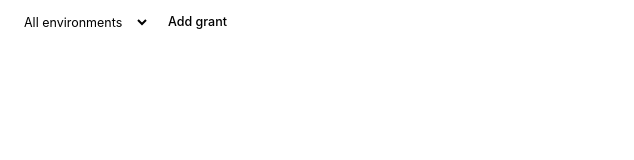
Test: hub admin panels › grant picker builds each scope
Later steps or results of the test are not shown.
Click the button with aria-label "Add grant to Ops".
click(198, 22)  # box x1=158 y1=8 x2=237 y2=36
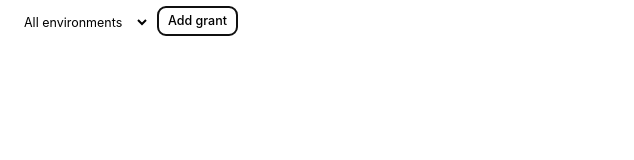
Select "One environment" in the dropdown named "Grant scope for Ops" at {"x": 81, "y": 22}, box x1=12 y1=8 x2=150 y2=36
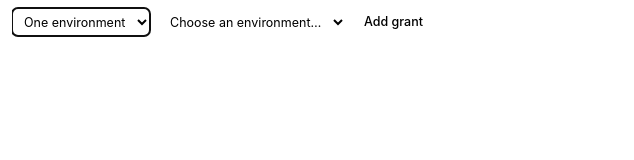
Check: the button with aria-label "Add grant to Ops" is disabled, box x1=354 y1=8 x2=433 y2=36
Select "prod" in the dropdown named "Environment for Ops" at {"x": 252, "y": 22}, box x1=158 y1=8 x2=346 y2=36
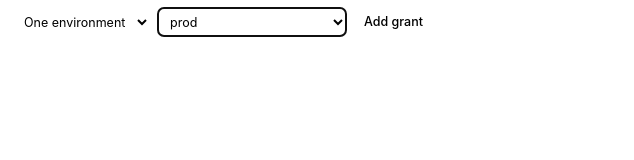
Click the button with aria-label "Add grant to Ops".
click(394, 22)  # box x1=354 y1=8 x2=433 y2=36
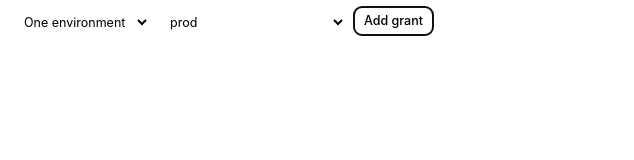
Select "One deployment" in the dropdown named "Grant scope for Ops" at {"x": 81, "y": 22}, box x1=12 y1=8 x2=150 y2=36
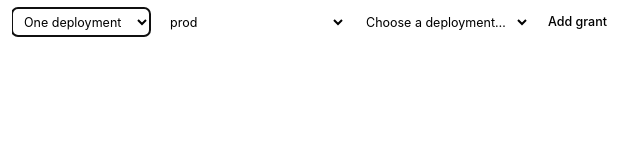
Select "staging" in the dropdown named "Environment for Ops" at {"x": 252, "y": 22}, box x1=158 y1=8 x2=346 y2=36
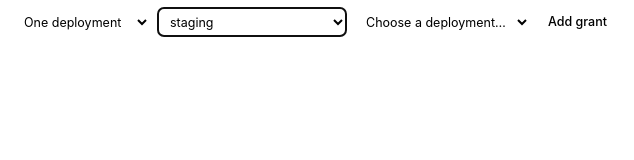
Check: the button with aria-label "Add grant to Ops" is disabled, box x1=538 y1=8 x2=617 y2=36
